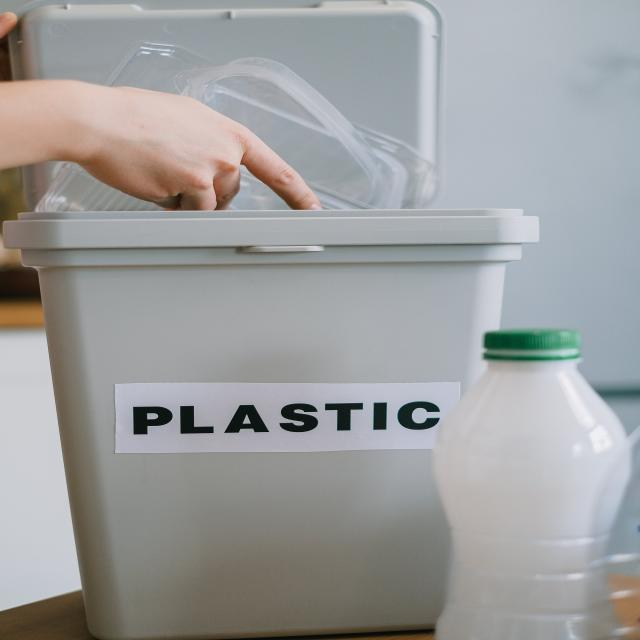plastic: (467, 360, 602, 611)
